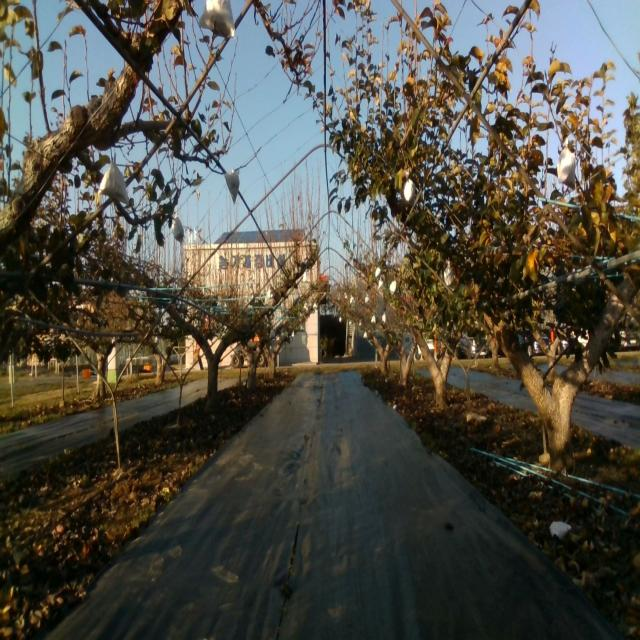pearbags: (98, 160, 130, 204), (198, 0, 235, 38), (557, 148, 575, 185), (224, 168, 240, 203), (172, 212, 185, 244), (401, 178, 416, 205)
